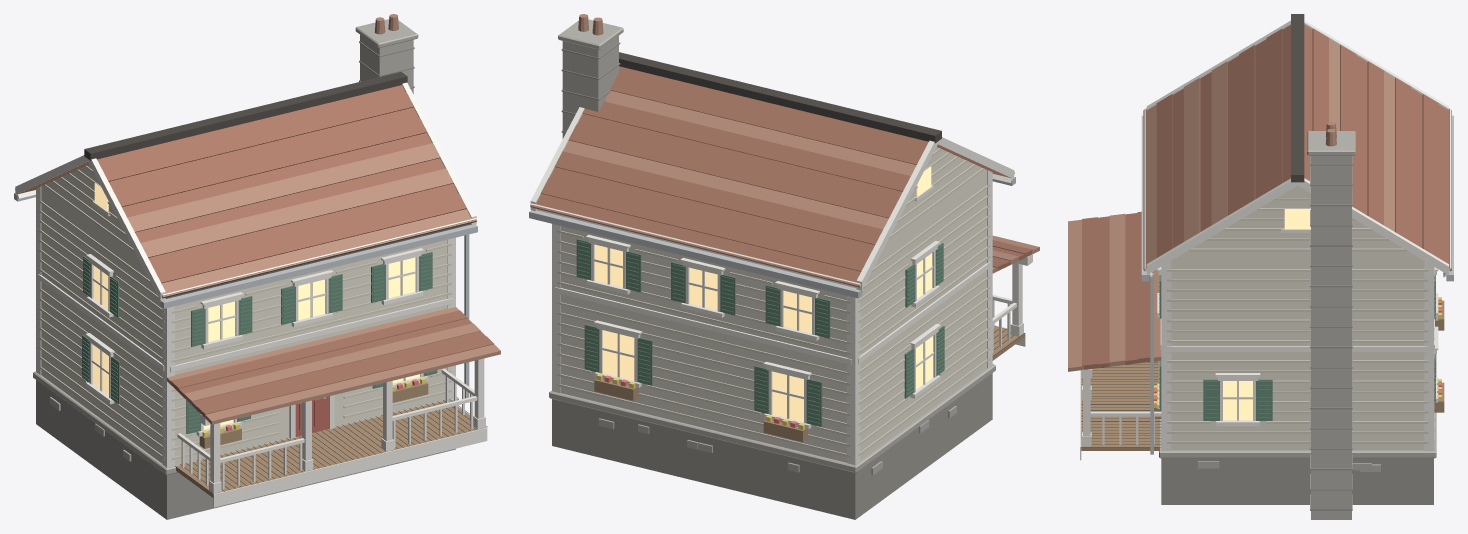
The model's file is farm_house.glb.
The picture shows the model from 3 angles, left to right: view 1: azimuth 30°, elevation 25°; view 2: azimuth 150°, elevation 25°; view 3: azimuth 270°, elevation 25°; orthographic projection. The views are drawn at different scales.
Visible parts, largest first — view 1: fh_house_mesh; view 2: fh_house_mesh; view 3: fh_house_mesh.
Part boxes in pixels (x1,y1,x2,y2): fh_house_mesh: [14, 14, 500, 519]; fh_house_mesh: [529, 14, 1039, 519]; fh_house_mesh: [1068, 14, 1453, 519].
Bounding box in the file's own units: 10.8 × 11.35 × 10.33.
